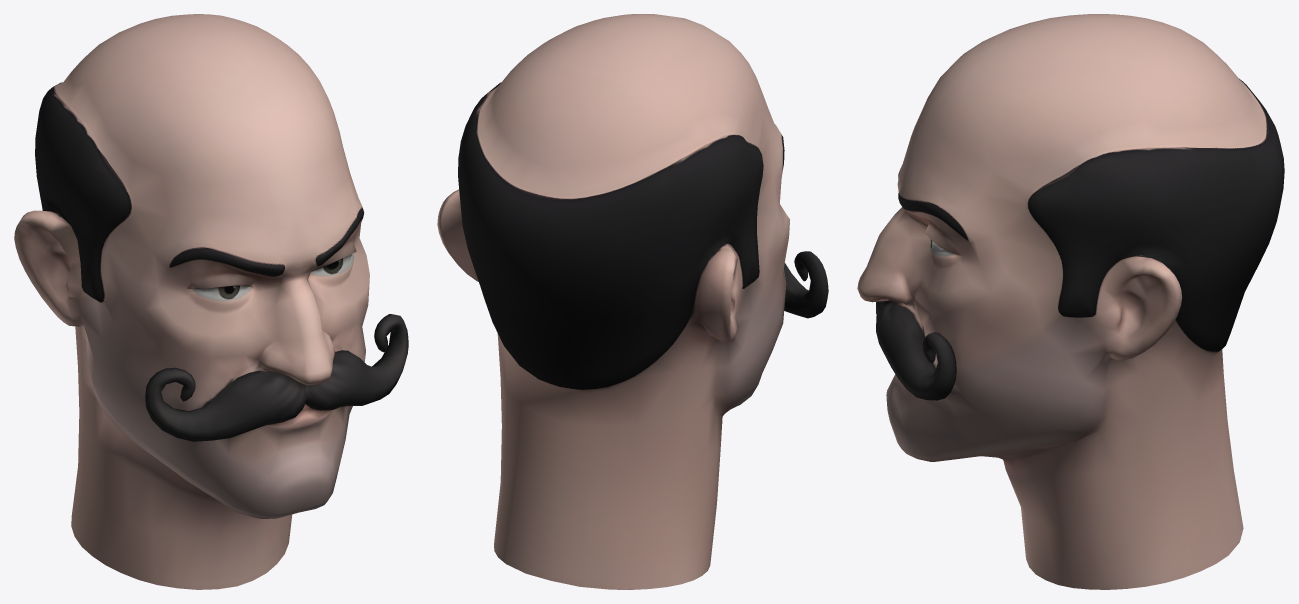
The model's file is stylized_male_head_3d_model.fbx.
3 views of the same model, side by side, from view 1: azimuth 30°, elevation 25°; view 2: azimuth 150°, elevation 25°; view 3: azimuth 270°, elevation 25° (orthographic).
Parts seen in each view (by area): view 1: tripo_node_483dfa60; view 2: tripo_node_483dfa60; view 3: tripo_node_483dfa60.
Boxes of the visible parts, x1,y1,x2,y2 form: tripo_node_483dfa60: [14, 14, 408, 589]; tripo_node_483dfa60: [437, 14, 828, 589]; tripo_node_483dfa60: [857, 14, 1284, 589].
Bounding box in the file's own units: 0.5884 × 0.9995 × 0.731.
1 material, 1 textured.
